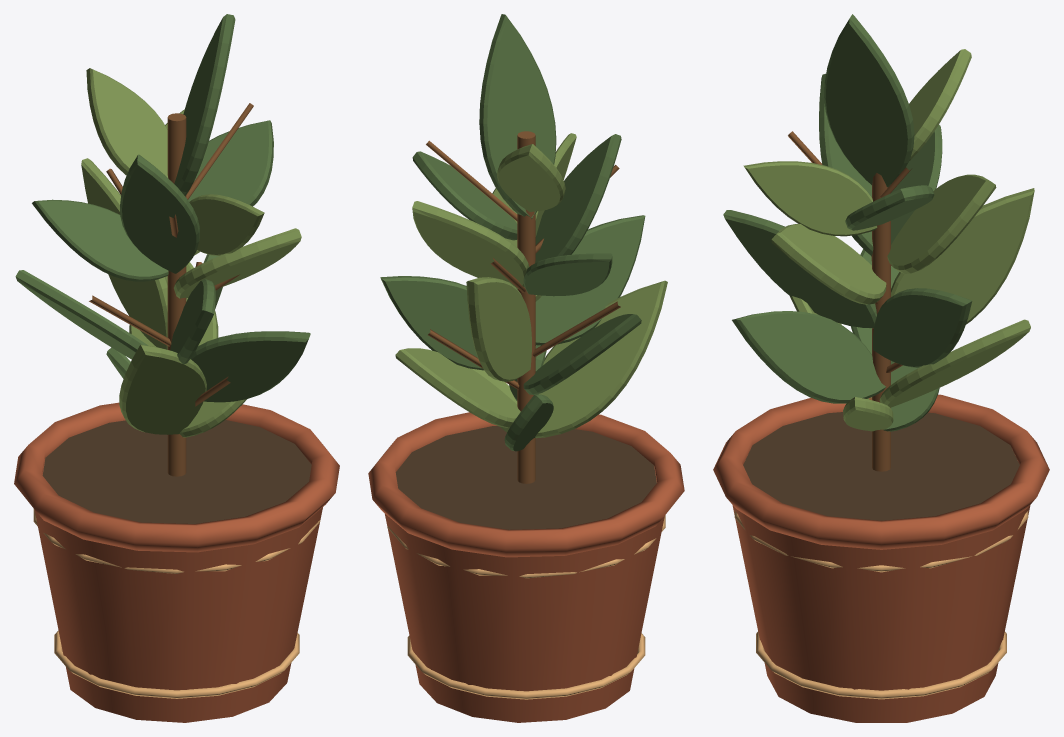
The model's file is workshop-plant.glb.
3 views of the same model, side by side, from view 1: azimuth 30°, elevation 25°; view 2: azimuth 150°, elevation 25°; view 3: azimuth 270°, elevation 25° (orthographic). The views are drawn at different scales.
Visible parts, largest first — view 1: pot, soil, Leaf 6, Leaf 1, Leaf 2, Leaf 13, Leaf 14, darkWood, Leaf 17, Leaf 8, Leaf 3, edge (+6 smaller); view 2: pot, soil, Leaf 8, Leaf 1, Leaf 4, Leaf 3, Leaf 10, darkWood, Leaf 12, Leaf 6, Leaf 9, Leaf 14 (+6 smaller); view 3: pot, soil, Leaf 8, Leaf 2, Leaf 3, Leaf 7, Leaf 10, Leaf 12, Leaf 4, Leaf 5, Leaf 9, edge (+7 smaller).
Boxes of the visible parts, left/top/right/bottom form: pot: left=14, top=402, right=339, bottom=722; soil: left=42, top=420, right=311, bottom=523; Leaf 6: left=120, top=154, right=199, bottom=273; Leaf 1: left=119, top=344, right=206, bottom=434; Leaf 2: left=190, top=331, right=310, bottom=402; Leaf 13: left=32, top=199, right=168, bottom=281; Leaf 14: left=86, top=68, right=167, bottom=177; darkWood: left=89, top=103, right=253, bottom=476; Leaf 17: left=188, top=120, right=273, bottom=206; Leaf 8: left=174, top=14, right=235, bottom=196; Leaf 3: left=81, top=158, right=167, bottom=349; edge: left=33, top=509, right=320, bottom=698; pot: left=368, top=412, right=684, bottom=722; soil: left=395, top=426, right=656, bottom=529; Leaf 8: left=479, top=14, right=556, bottom=218; Leaf 1: left=535, top=280, right=667, bottom=438; Leaf 4: left=535, top=215, right=645, bottom=345; Leaf 3: left=466, top=277, right=531, bottom=381; Leaf 10: left=380, top=276, right=483, bottom=370; darkWood: left=426, top=131, right=620, bottom=483; Leaf 12: left=412, top=201, right=529, bottom=288; Leaf 6: left=535, top=134, right=621, bottom=263; Leaf 9: left=395, top=348, right=520, bottom=427; Leaf 14: left=497, top=144, right=565, bottom=211; pot: left=713, top=394, right=1049, bottom=722; soil: left=743, top=412, right=1019, bottom=520; Leaf 8: left=824, top=14, right=914, bottom=187; Leaf 2: left=732, top=311, right=885, bottom=403; Leaf 3: left=891, top=188, right=1034, bottom=324; Leaf 7: left=743, top=161, right=877, bottom=236; Leaf 10: left=873, top=288, right=972, bottom=367; Leaf 12: left=887, top=174, right=996, bottom=273; Leaf 4: left=723, top=210, right=876, bottom=328; Leaf 5: left=771, top=224, right=886, bottom=304; Leaf 9: left=879, top=319, right=1030, bottom=407; edge: left=734, top=510, right=1028, bottom=699.
Bounding box in the file's own units: 0.28 × 0.6236 × 0.28.
